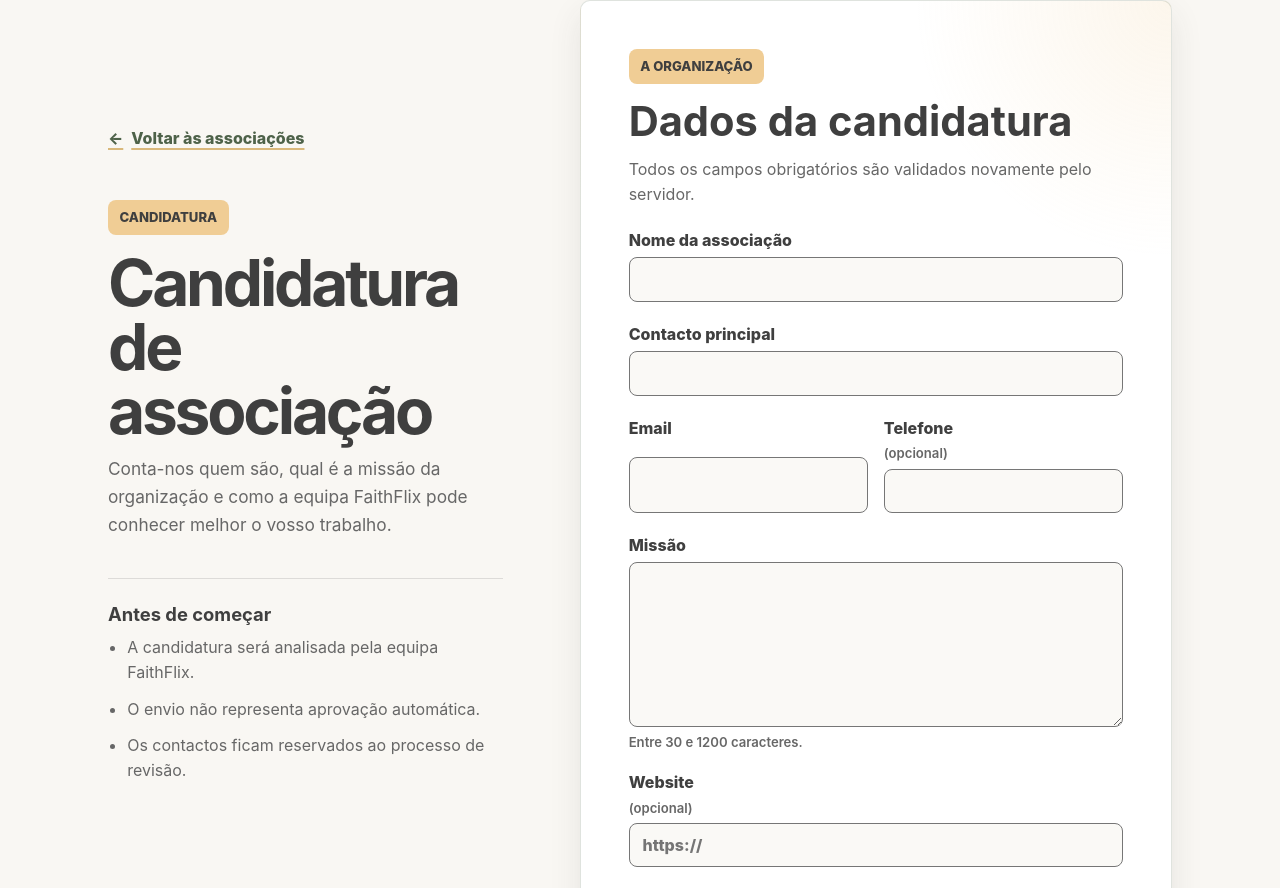
Scenario: CharityApplicationPage › preserva os dados quando o backend rejeita a candidatura
In the field labelled "Nome da associação": (876, 280) [629,257,1123,302], type "Associação Exemplo"
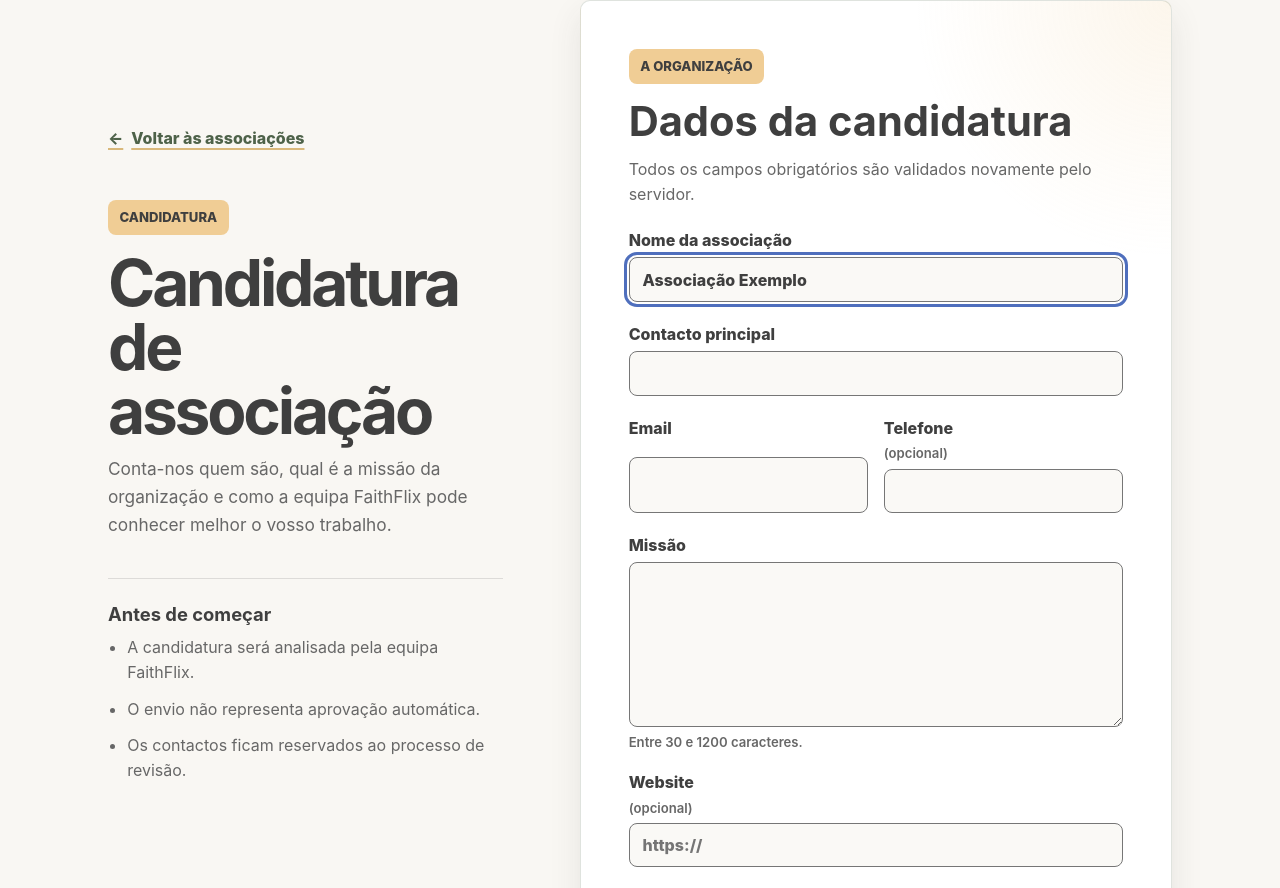
In the field labelled "Contacto principal": (876, 374) [629,351,1123,396], type "Maria Exemplo"
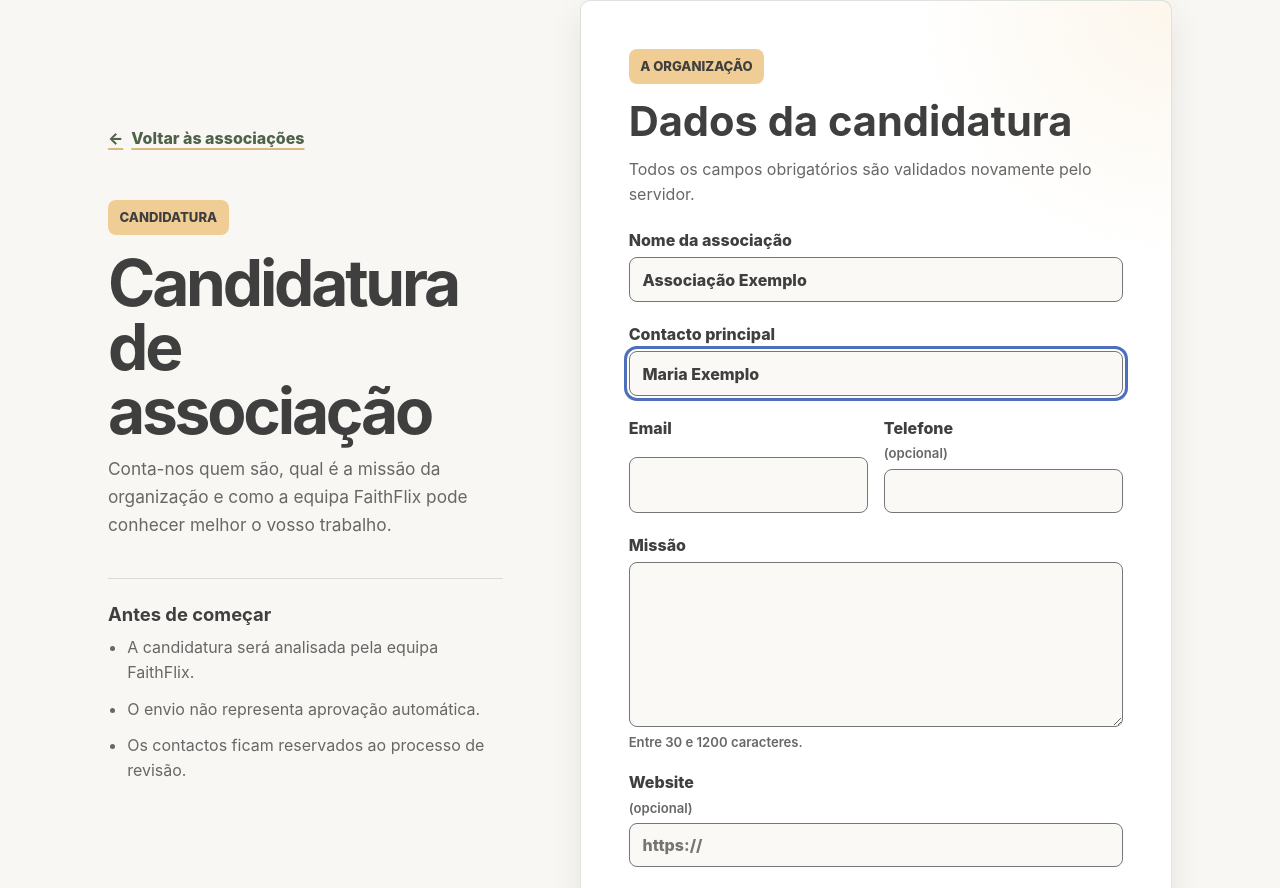
In the field labelled "Email": (748, 485) [629,457,868,513], type "maria@example.test"
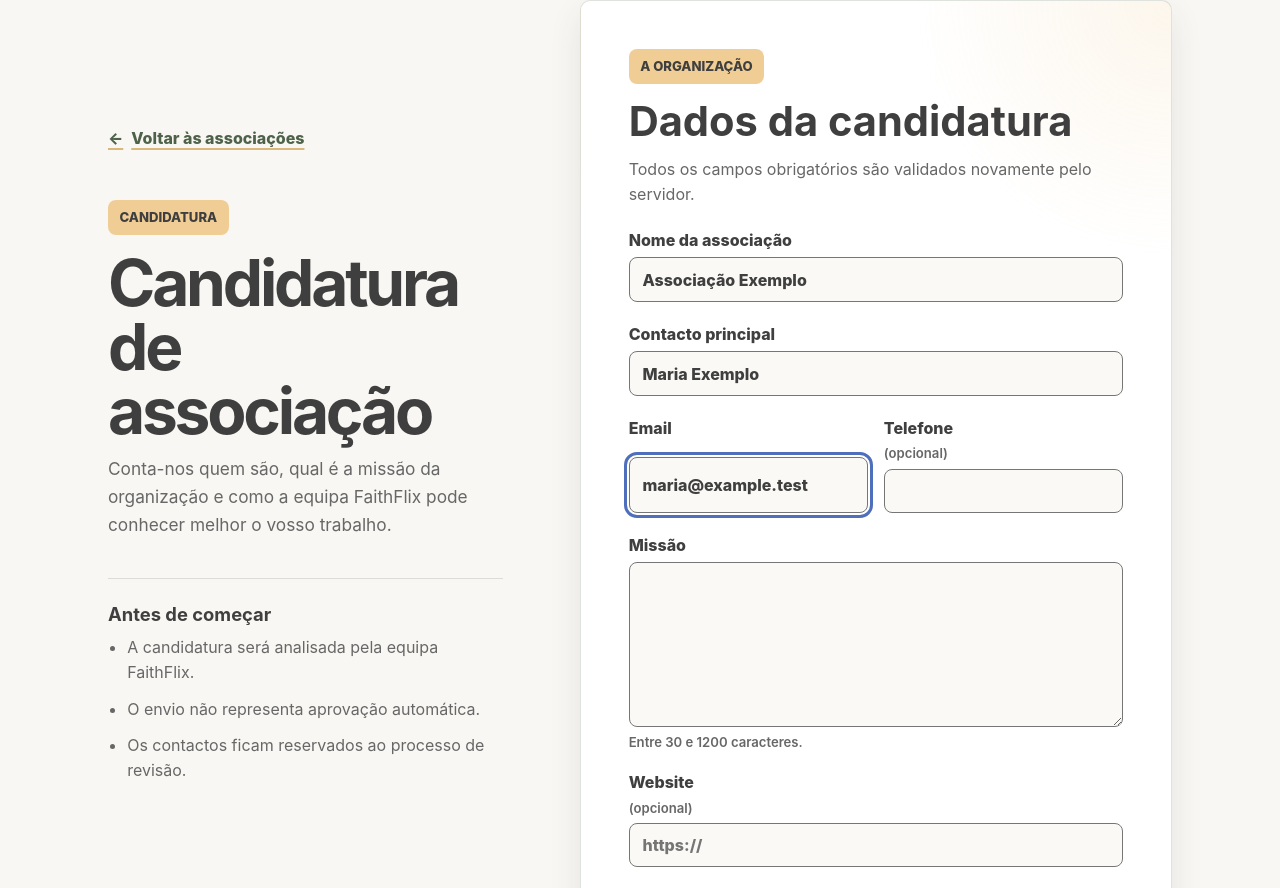
In the text box labelled "Missão Entre 30 e 1200 caracteres.": (876, 645) [629,562,1123,727], type "Apoio continuado a famílias e comunidades locais."
(page scrolled)
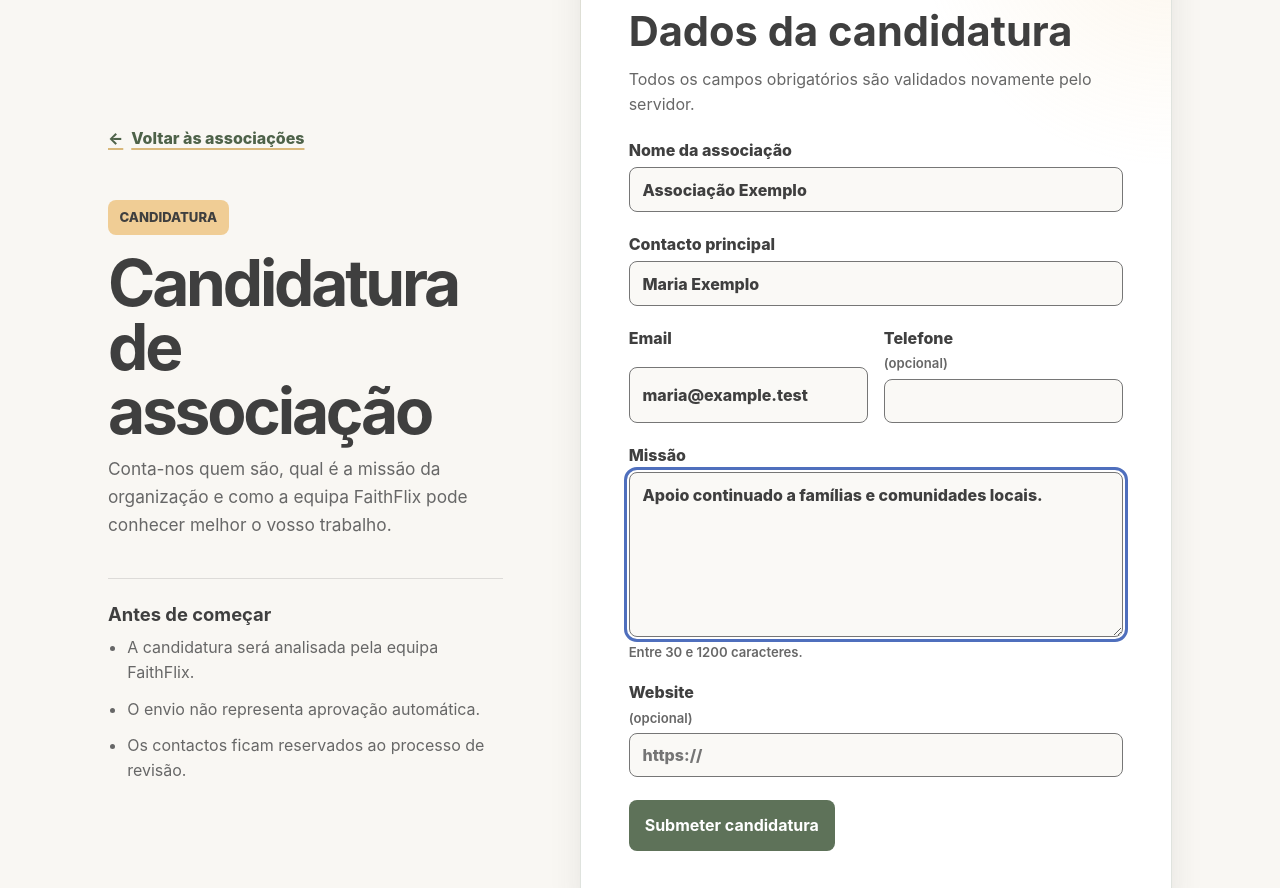
Click the button "Submeter candidatura": (732, 825) [629,800,835,851]
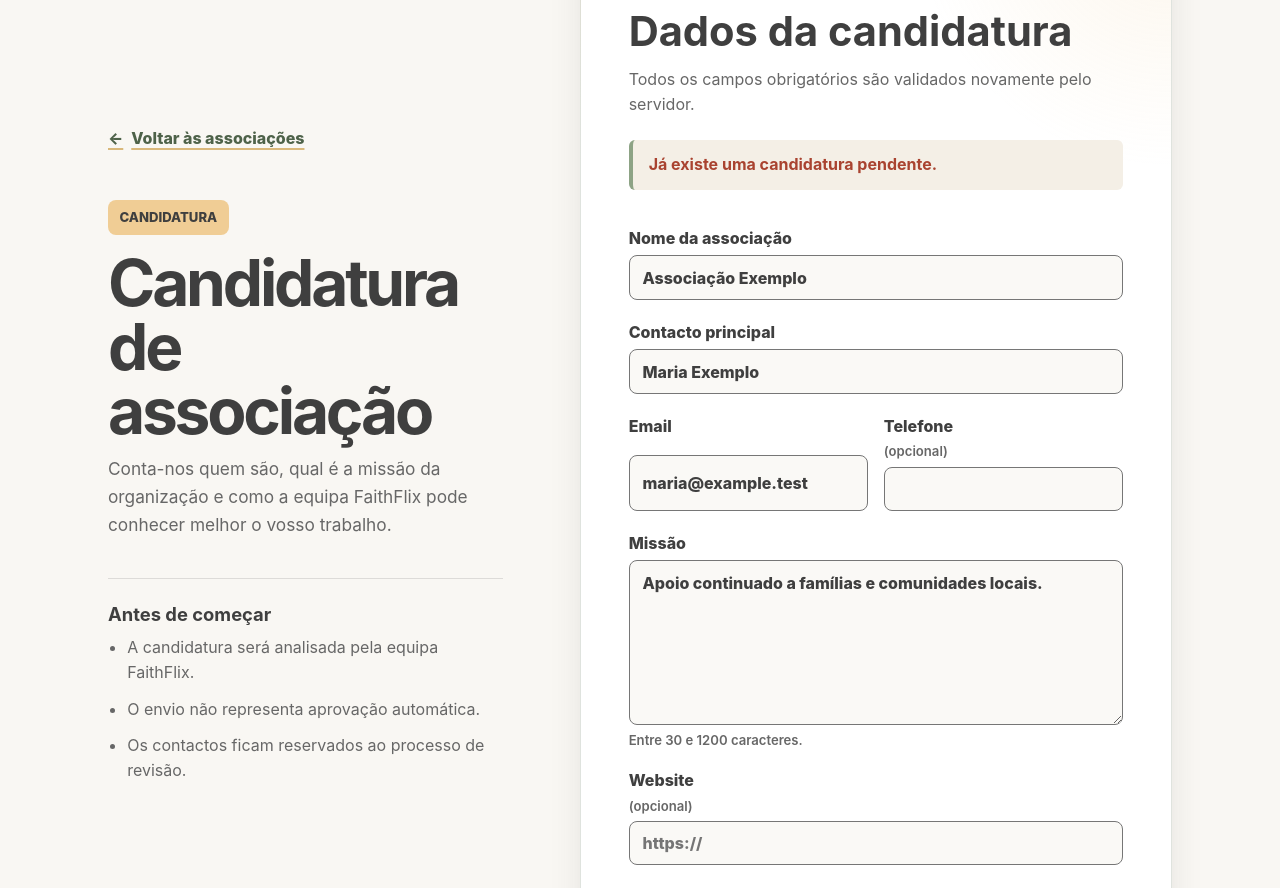
Expected: the message reads "Já existe uma candidatura pendente.", [649,154,937,174]
